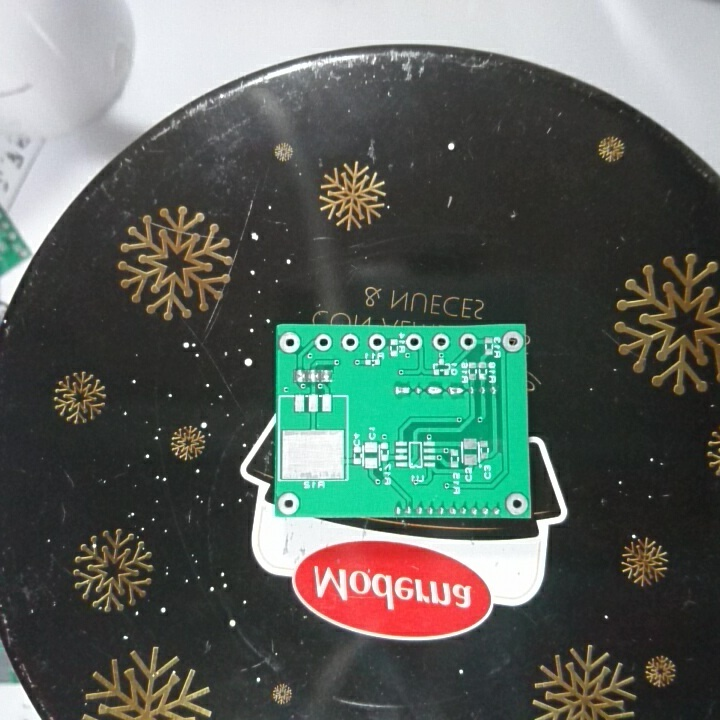F: (277, 331, 302, 355), (505, 491, 530, 515), (276, 490, 300, 515), (500, 331, 524, 353), (314, 331, 334, 352), (339, 332, 360, 352), (431, 332, 451, 352), (457, 332, 479, 349), (366, 332, 385, 351), (405, 332, 423, 352)
P: (392, 381, 412, 398), (424, 383, 445, 399), (445, 383, 465, 397)
